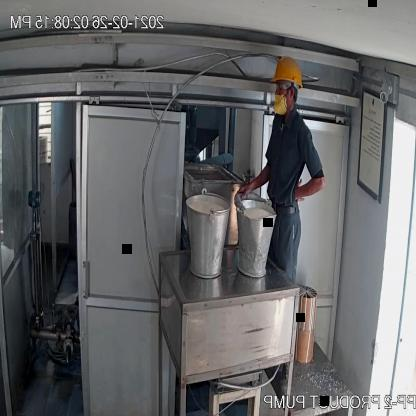helmet: (271, 53, 306, 90)
